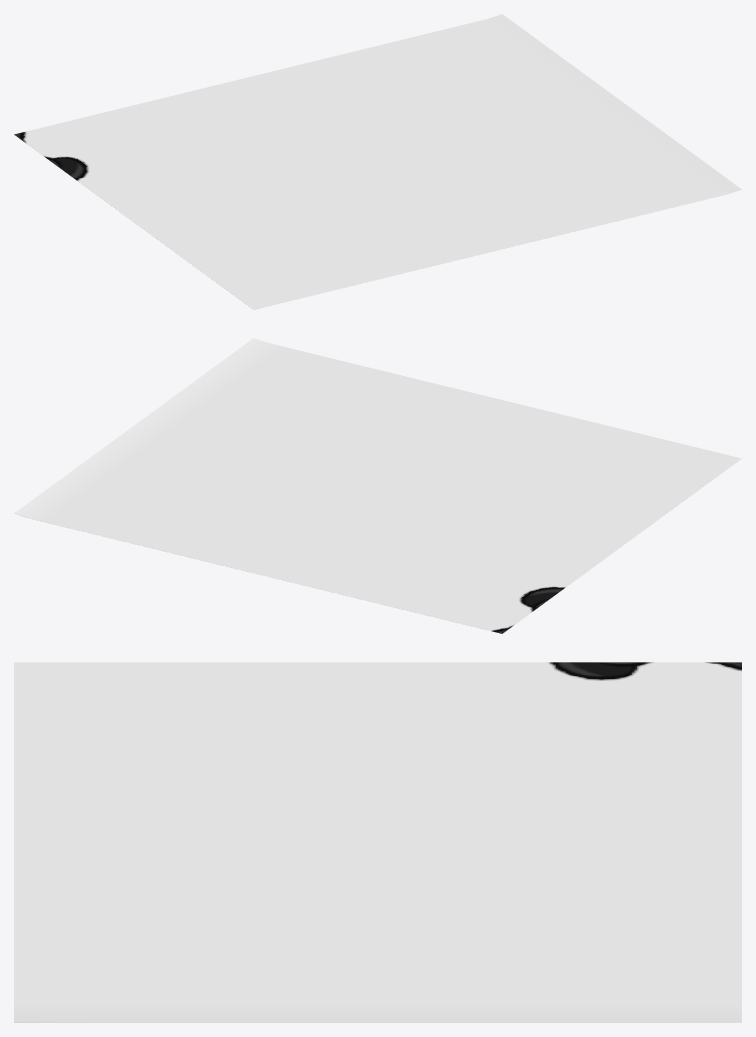
Rendered from Level 171.fbx.
The picture shows the model from 3 angles, top to bottom: view 1: azimuth 30°, elevation 25°; view 2: azimuth 150°, elevation 25°; view 3: azimuth 270°, elevation 25°; orthographic projection. The views are drawn at different scales.
Parts seen in each view (by area): view 1: Blend; view 2: Blend; view 3: Blend.
Boxes of the visible parts, x1,y1,x2,y2 form: Blend: (14,14,741,309); Blend: (14,338,741,633); Blend: (14,662,741,1022).
Size of what is drawn, in the model's own units: 772 by 2.08 by 656.
